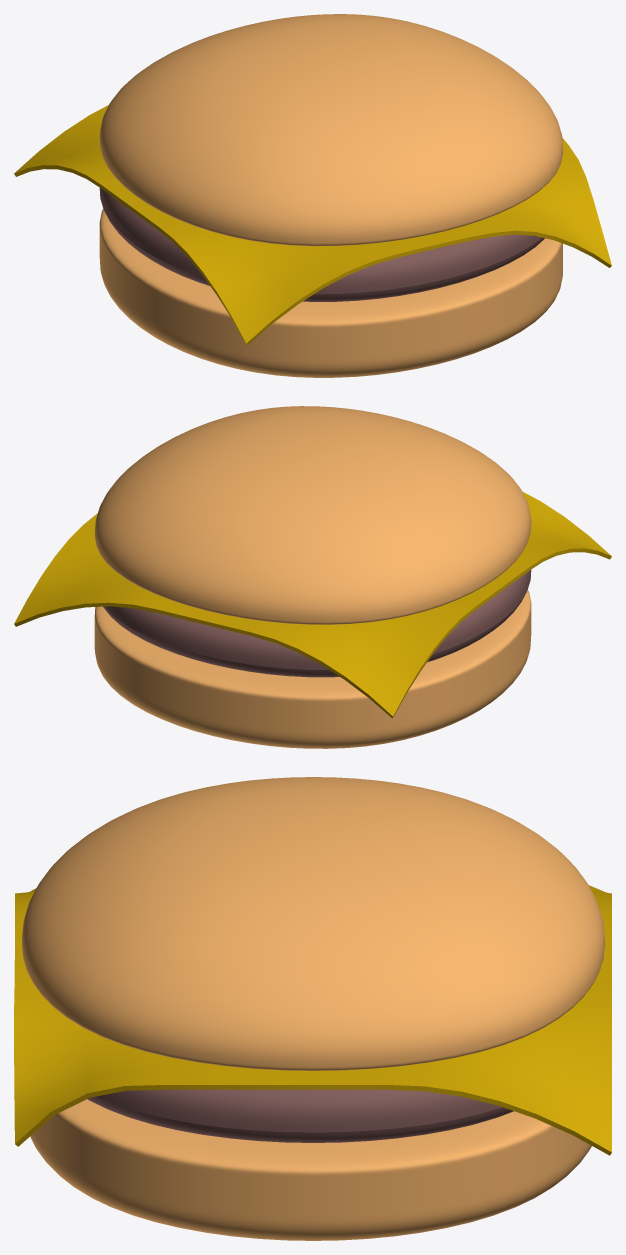
Rendered from hamburger.glb.
3 renders of one model, top to bottom at view 1: azimuth 30°, elevation 25°; view 2: azimuth 150°, elevation 25°; view 3: azimuth 270°, elevation 25°, orthographic. The views are drawn at different scales.
Parts seen in each view (by area): view 1: Cube.002, Cube, Plane, Cube.001; view 2: Cube.002, Cube, Plane, Cube.001; view 3: Cube.002, Cube, Plane, Cube.001.
Boxes of the visible parts, x1=… form: Cube.002: x1=99, y1=14, x2=562, y2=246; Cube: x1=99, y1=209, x2=562, y2=377; Plane: x1=14, y1=105, x2=611, y2=345; Cube.001: x1=99, y1=188, x2=544, y2=301; Cube.002: x1=94, y1=406, x2=531, y2=624; Cube: x1=94, y1=589, x2=531, y2=748; Plane: x1=14, y1=492, x2=611, y2=718; Cube.001: x1=103, y1=570, x2=531, y2=677; Cube.002: x1=22, y1=777, x2=604, y2=1070; Cube: x1=30, y1=1099, x2=591, y2=1240; Plane: x1=14, y1=885, x2=611, y2=1155; Cube.001: x1=87, y1=1040, x2=513, y2=1142.
Bounding box in the file's own units: 9.39 × 5.56 × 9.4.
